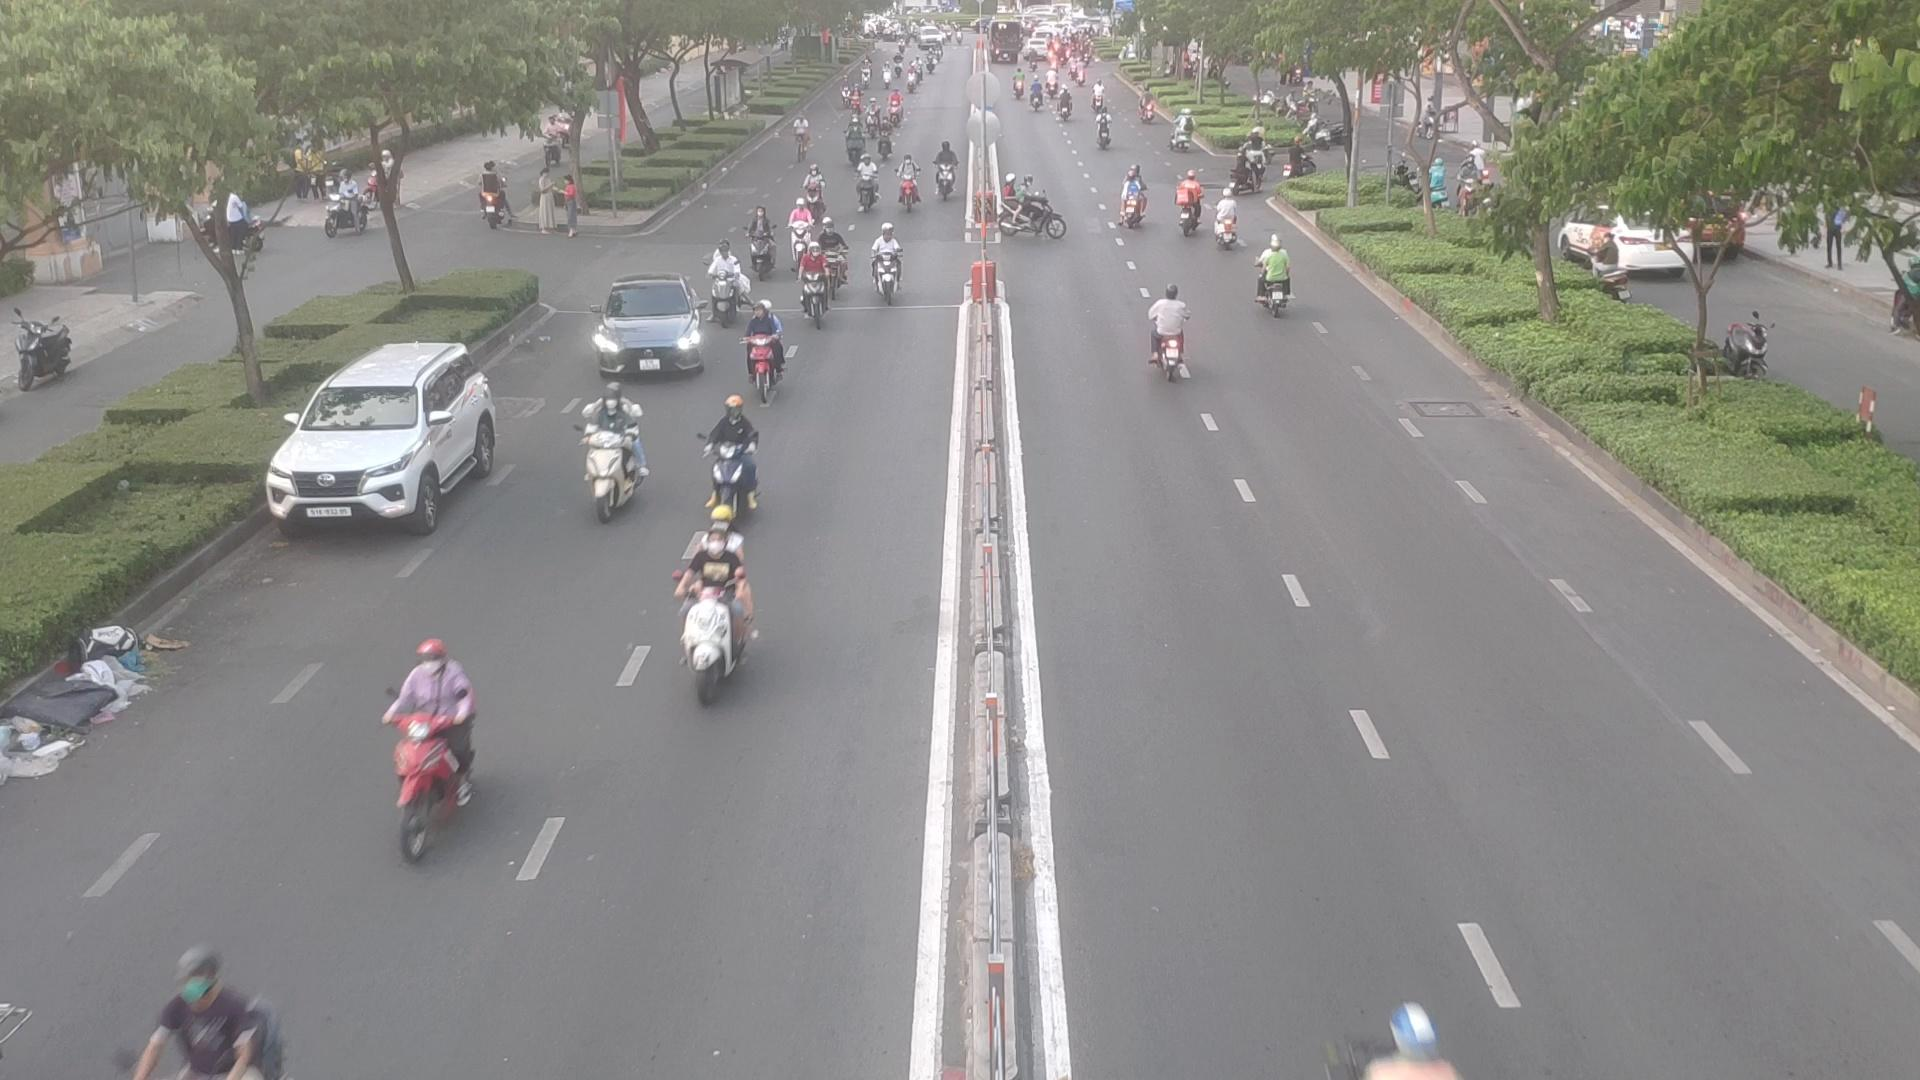car: (268, 344, 513, 533), (585, 280, 709, 382)
motorbike: (363, 640, 480, 858), (123, 963, 290, 1080), (667, 522, 749, 704), (1338, 992, 1480, 1075), (583, 400, 650, 521), (698, 409, 757, 516), (1133, 284, 1193, 381), (736, 303, 793, 400), (994, 181, 1073, 247), (1247, 243, 1300, 316), (864, 228, 909, 303), (705, 264, 752, 323), (811, 224, 852, 287), (804, 240, 832, 326), (1171, 179, 1208, 237), (745, 215, 779, 276), (932, 146, 964, 200), (1215, 199, 1246, 251), (898, 156, 923, 220), (1122, 174, 1153, 225), (785, 203, 808, 266), (853, 158, 881, 210), (804, 162, 828, 220), (876, 117, 894, 161), (847, 117, 862, 166)
